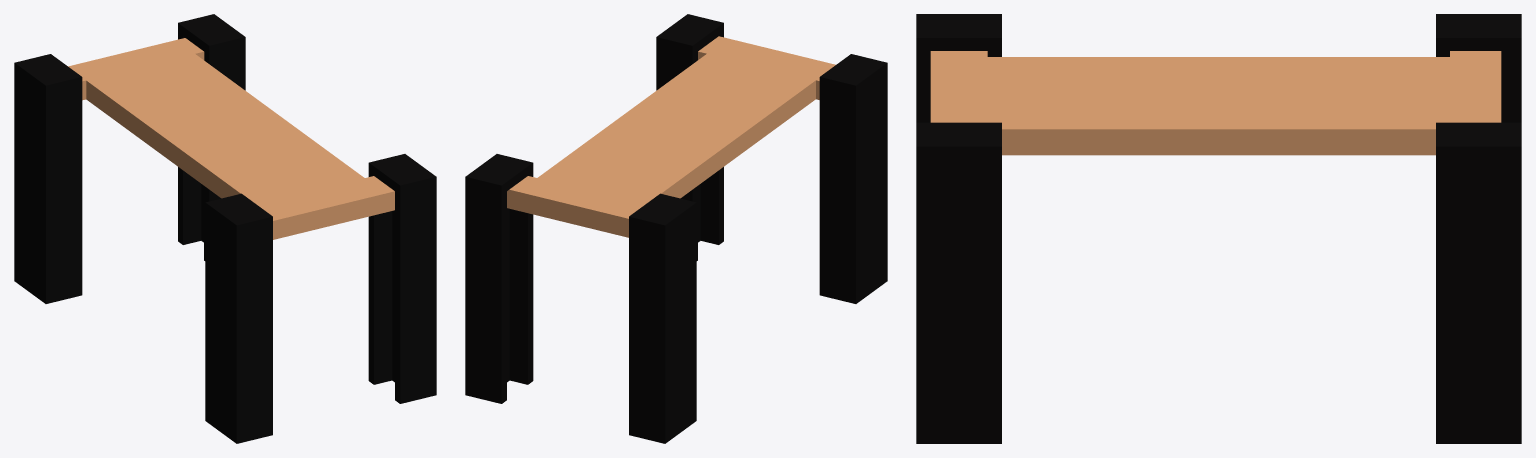
File: rm_structure_bridge.fbx
3 views of the same model, side by side, from view 1: azimuth 30°, elevation 25°; view 2: azimuth 150°, elevation 25°; view 3: azimuth 270°, elevation 25° (orthographic). The views are drawn at different scales.
Visible parts, largest first — view 1: RM_Bridge_Supports, RM_Bridge_Platform; view 2: RM_Bridge_Supports, RM_Bridge_Platform; view 3: RM_Bridge_Supports, RM_Bridge_Platform.
Boxes of the visible parts, <box> form: RM_Bridge_Supports: <box>14,14,436,443</box>; RM_Bridge_Platform: <box>68,38,394,239</box>; RM_Bridge_Supports: <box>465,14,887,443</box>; RM_Bridge_Platform: <box>507,36,835,237</box>; RM_Bridge_Supports: <box>916,14,1521,443</box>; RM_Bridge_Platform: <box>930,51,1501,155</box>.
Size of the model in its own units: 2200 by 2300 by 4242.
